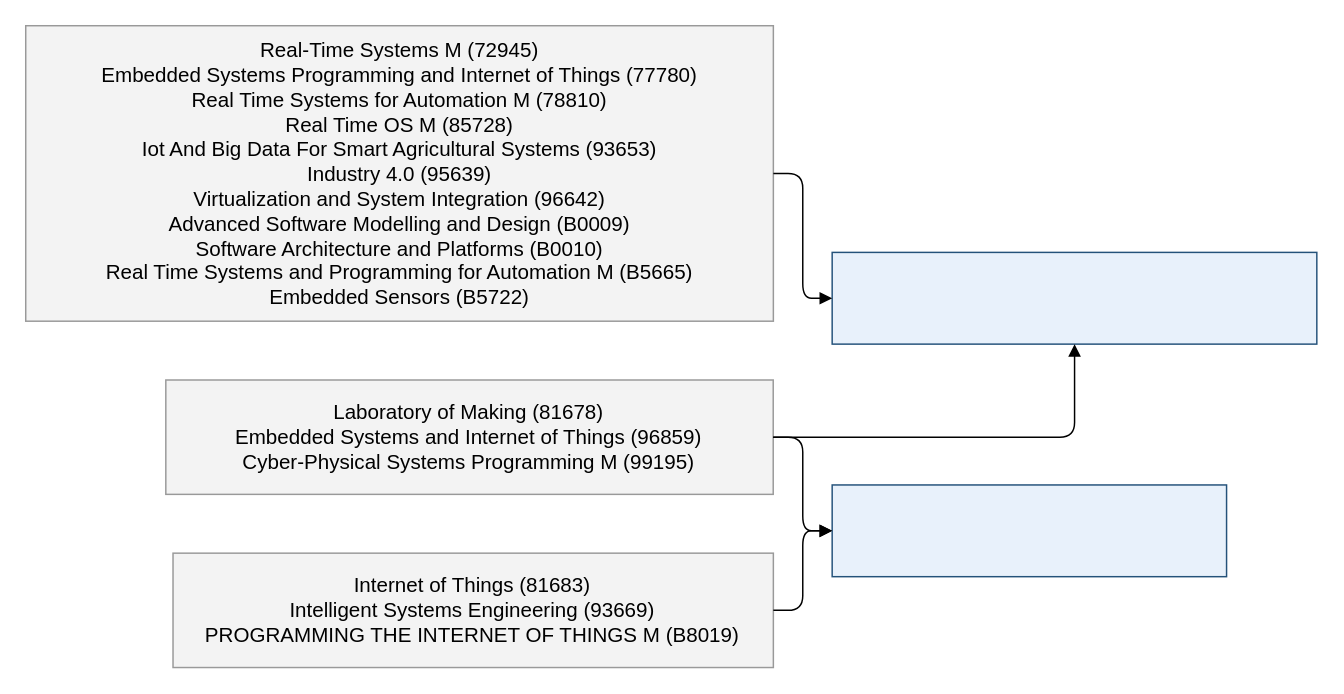
This 1344x694 diagram has some shape labels left out. Here are the shapes that lost their labels. From the top down, the centre of each, then its label:
At (x=1074, y=297): "Real-Time and Cyber-Physical Systems 12 ECTS".
At (x=1029, y=530): "Embedded Intelligent Devices 6 ECTS".
